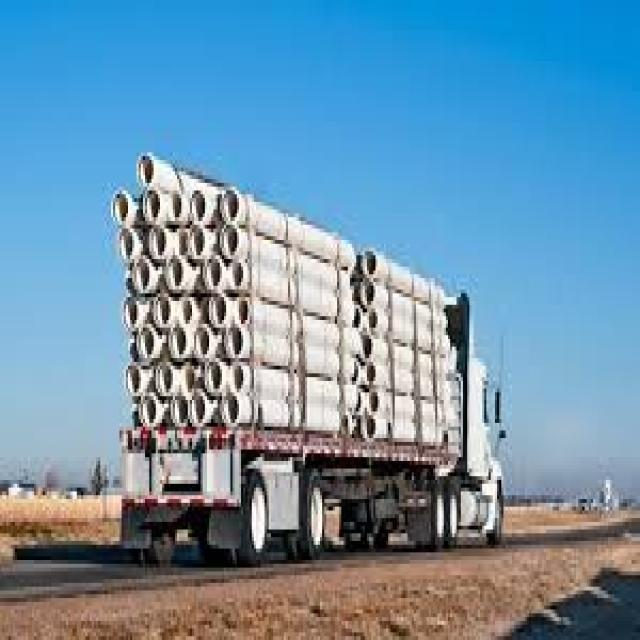uncovered: (119, 156, 504, 555)
